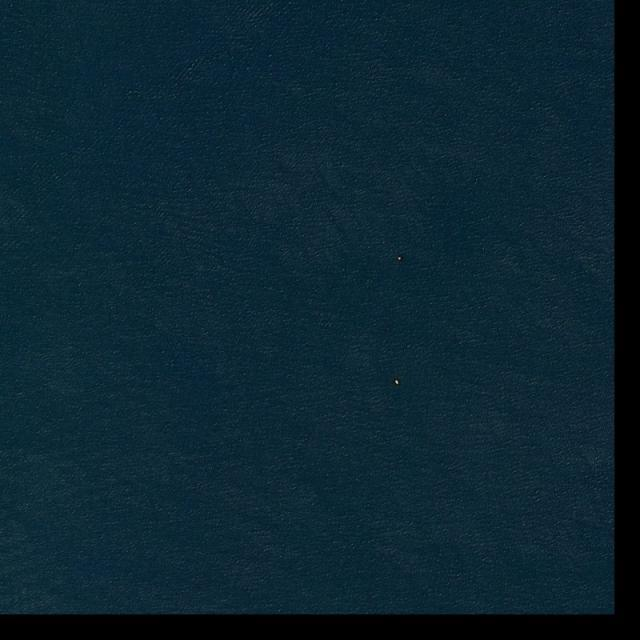ship: (396, 255, 403, 262), (393, 378, 399, 385)
